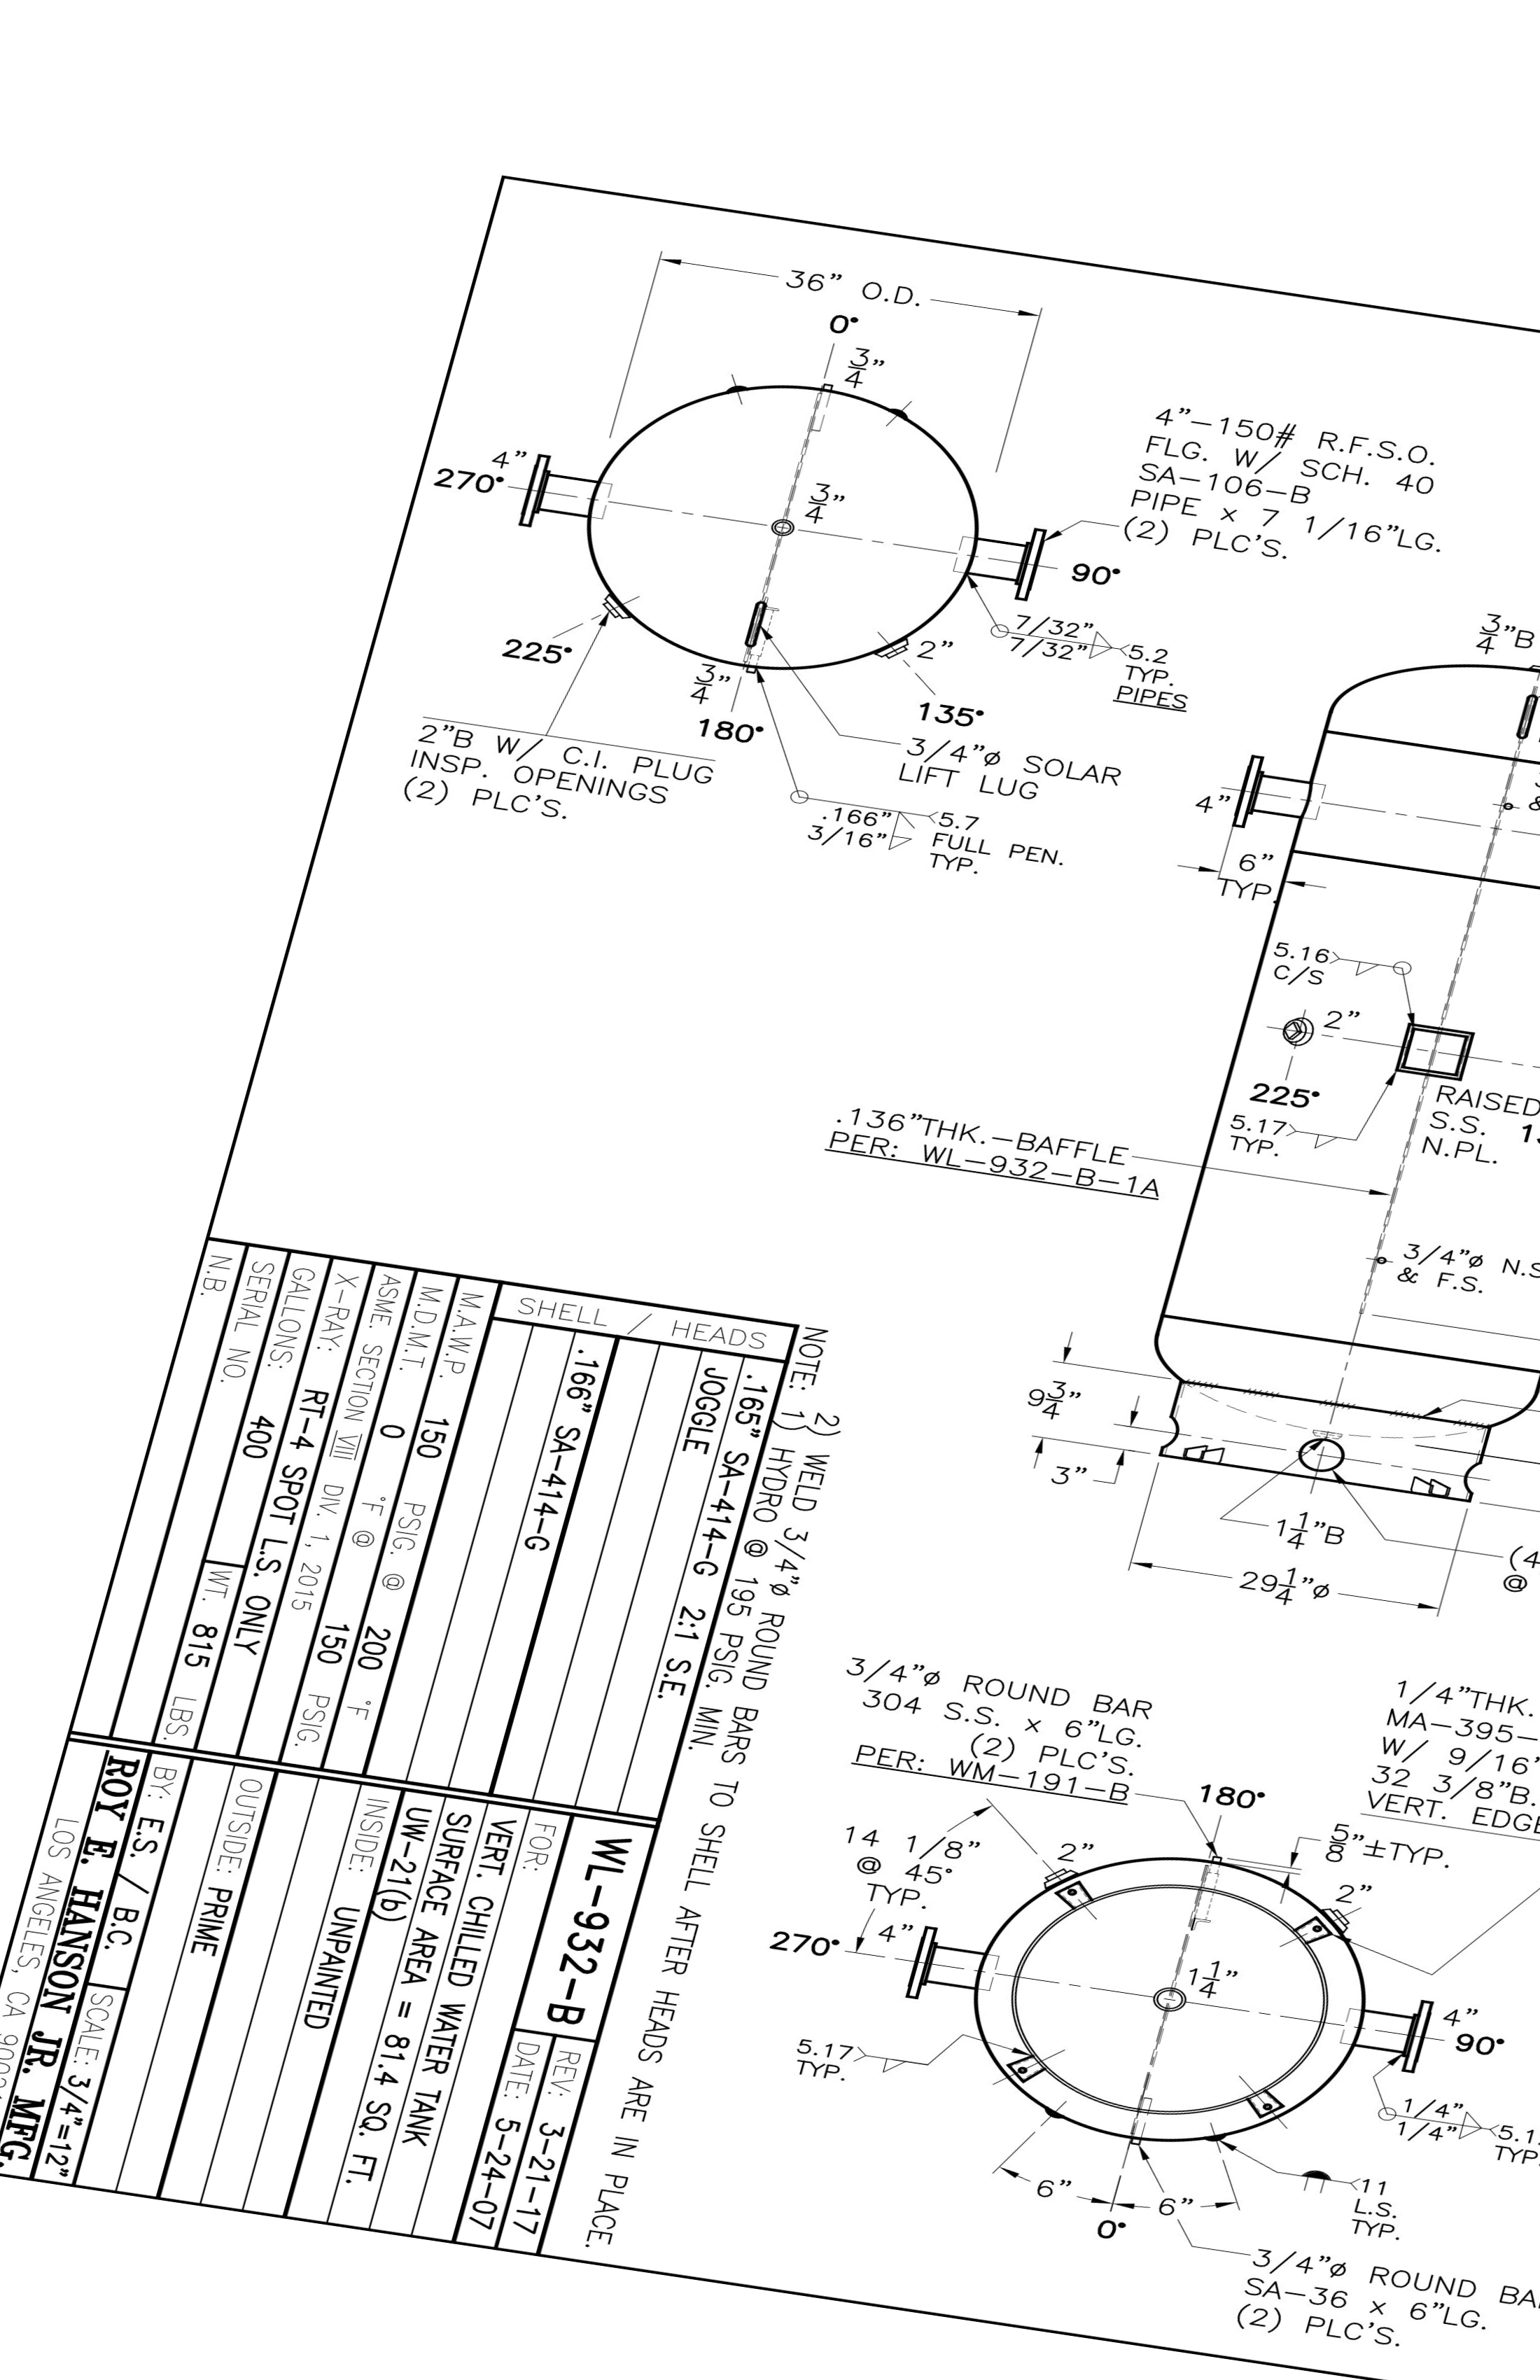Nozzle: (1315, 1991, 1488, 2123), (938, 493, 1103, 630), (1207, 732, 1335, 853), (498, 432, 614, 553), (902, 1903, 1009, 2019)
